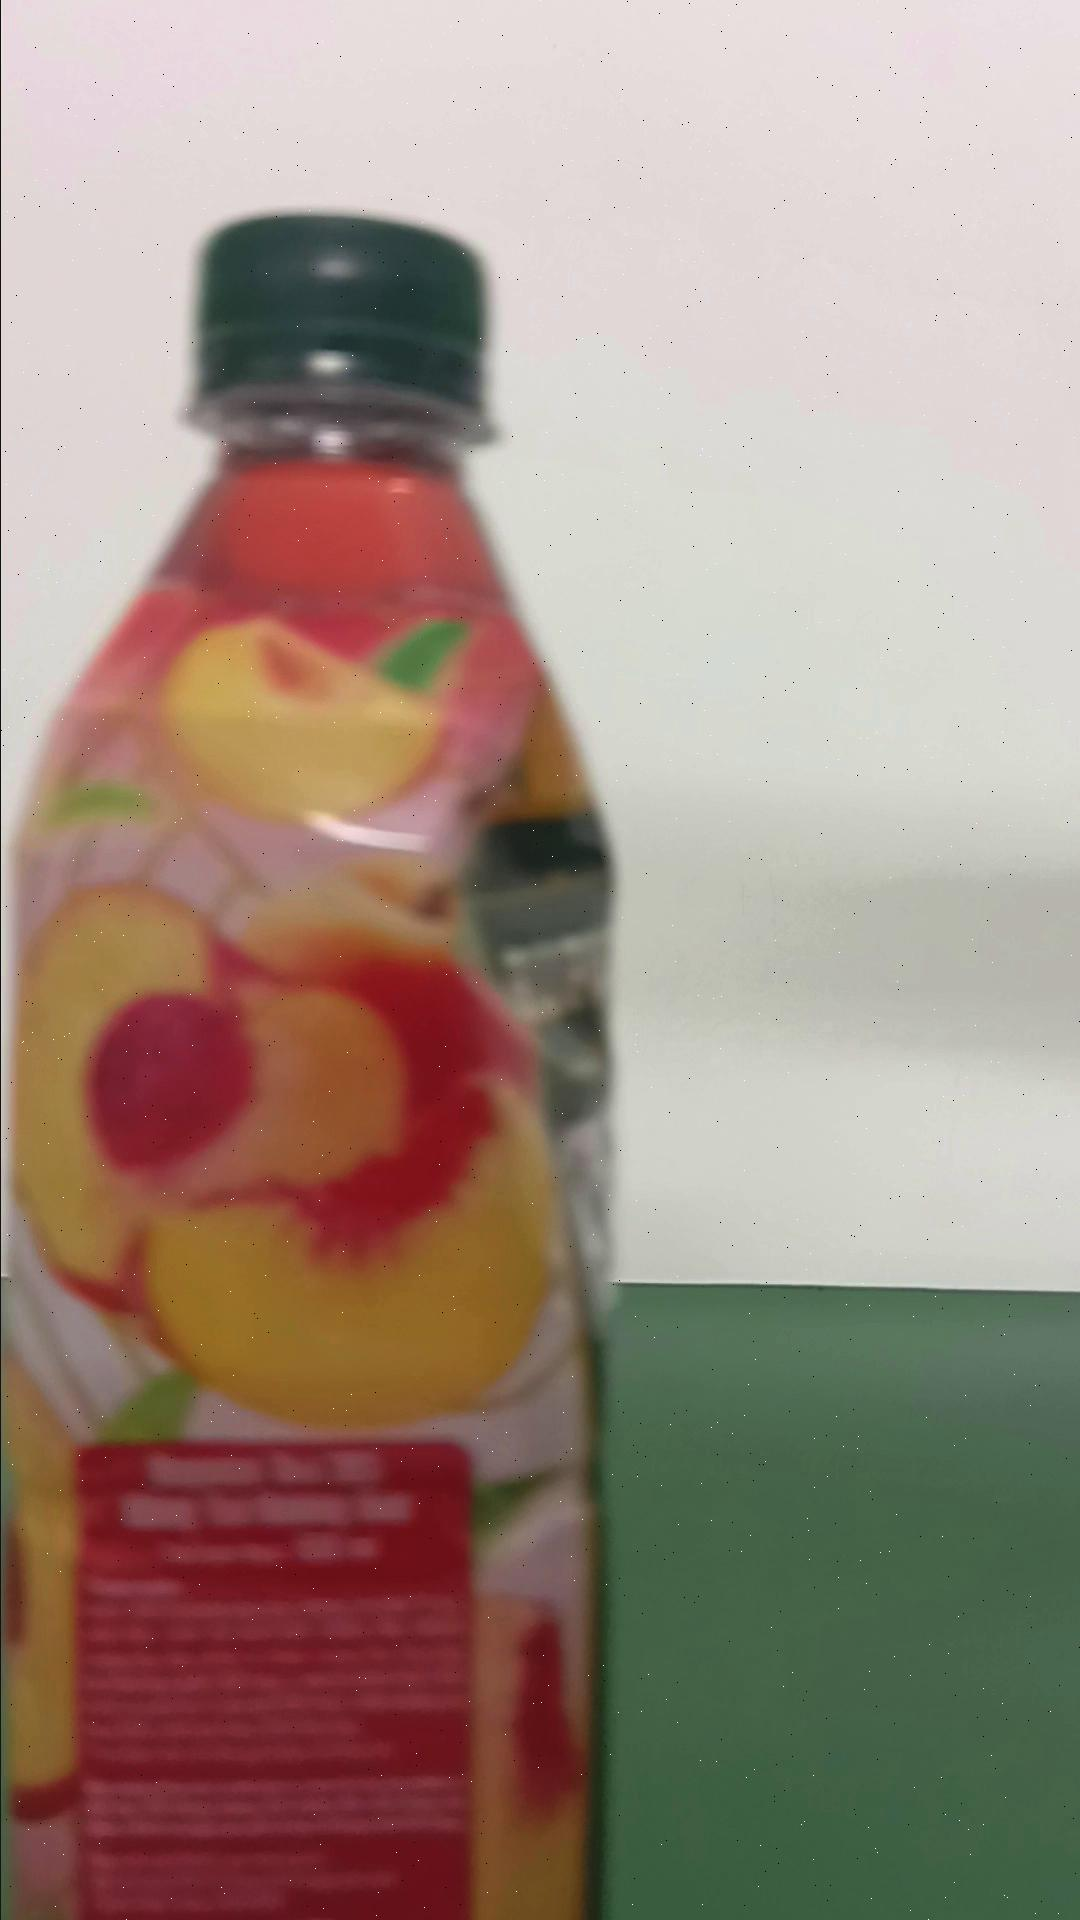loi meo sp: (9, 207, 618, 1913)
